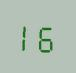one: (19, 19, 36, 52)
six: (37, 19, 54, 53)
